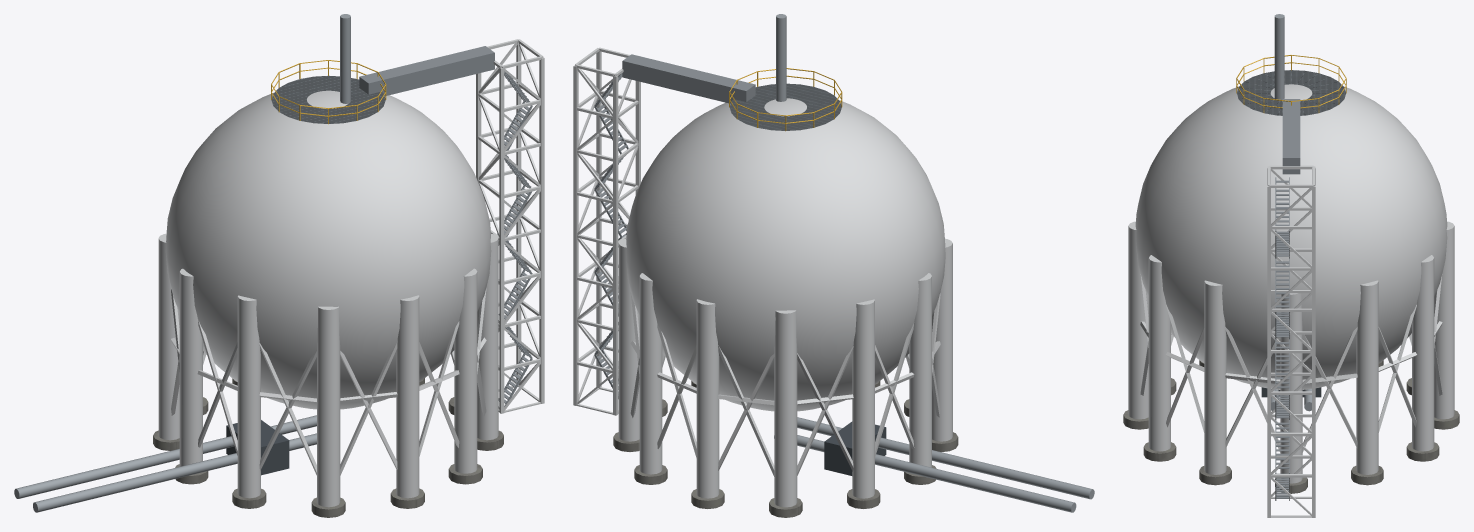
Rendered from sphere_lox.glb.
3 views of the same model, side by side, from view 1: azimuth 30°, elevation 25°; view 2: azimuth 150°, elevation 25°; view 3: azimuth 270°, elevation 25° (orthographic). The views are drawn at different scales.
Visible parts, largest first — view 1: sphere_lox; view 2: sphere_lox; view 3: sphere_lox.
Boxes of the visible parts, x1,y1,x2,y2 form: sphere_lox: (14,14,544,517); sphere_lox: (573,14,1094,517); sphere_lox: (1123,14,1459,517).
Size of the model in its own units: 37.73 by 30.6 by 22.67.
Materials: 7 (2 with a texture image).
